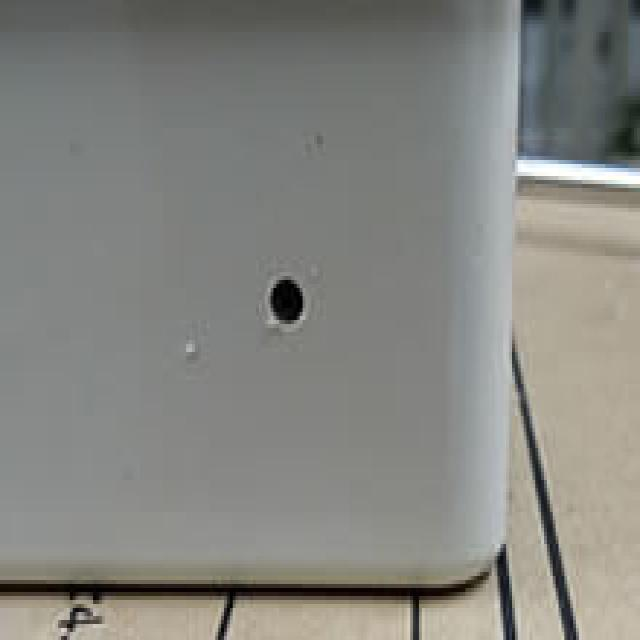hidden camera: (264, 273, 307, 329)
